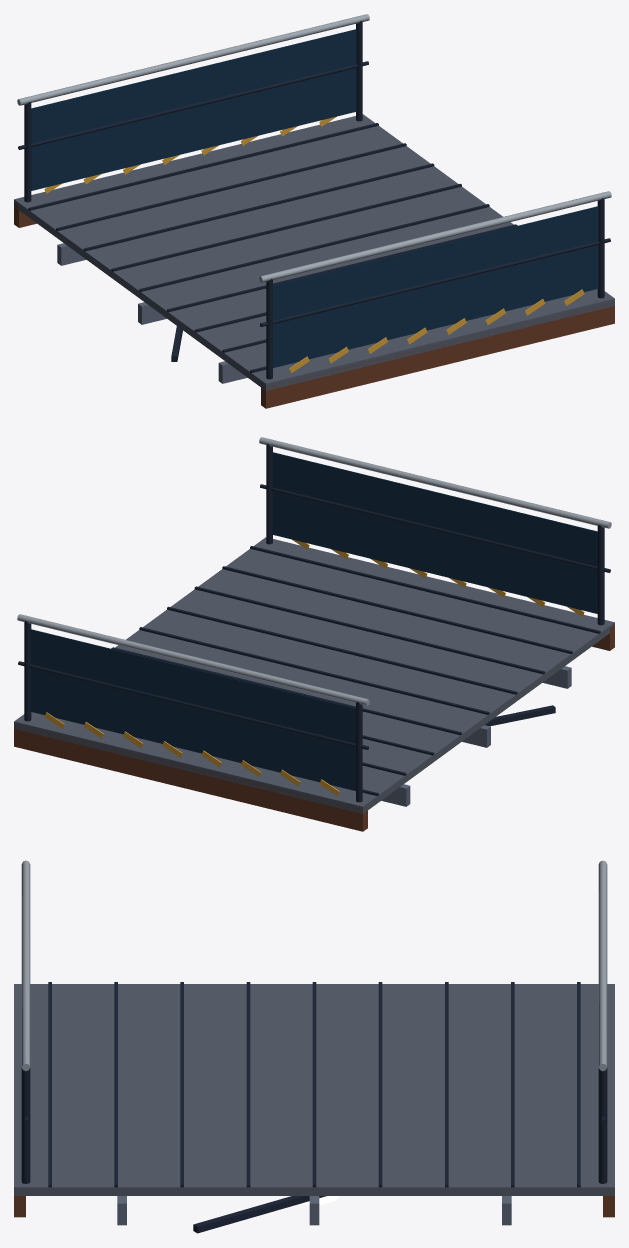
The model's file is switchyard_catwalk.glb.
3 renders of one model, top to bottom at view 1: azimuth 30°, elevation 25°; view 2: azimuth 150°, elevation 25°; view 3: azimuth 270°, elevation 25°, orthographic. The views are drawn at different scales.
Parts seen in each view (by area): view 1: cat_grate, cat_mesh-1, cat_mesh1, cat_edge1, cat_handrail-1, cat_handrail1, cat_grate_bar2, cat_grate_bar0, cat_grate_bar1, cat_grate_bar3, cat_grate_bar4, cat_midrail-1 (+8 smaller); view 2: cat_grate, cat_mesh1, cat_mesh-1, cat_edge-1, cat_handrail1, cat_handrail-1, cat_grate_bar6, cat_grate_bar5, cat_grate_bar7, cat_grate_bar8, cat_grate_bar4, cat_midrail1 (+9 smaller); view 3: cat_grate, cat_handrail-1, cat_handrail1, cat_truss_diag3, cat_post-11.9, cat_post11.9, cat_grate_bar3, cat_grate_bar4, cat_grate_bar5, cat_grate_bar0, cat_grate_bar1, cat_grate_bar2 (+3 smaller).
Part boxes in pixels (x1,y1,x2,y2): cat_grate: [14, 114, 614, 390]; cat_mesh-1: [31, 29, 356, 190]; cat_mesh1: [273, 206, 598, 367]; cat_edge1: [261, 301, 614, 408]; cat_handrail-1: [17, 14, 369, 105]; cat_handrail1: [259, 191, 611, 282]; cat_grate_bar2: [83, 163, 434, 251]; cat_grate_bar0: [28, 123, 378, 210]; cat_grate_bar1: [56, 143, 406, 230]; cat_grate_bar3: [111, 183, 461, 271]; cat_grate_bar4: [139, 204, 489, 291]; cat_midrail-1: [18, 61, 368, 149]; cat_grate: [14, 537, 614, 813]; cat_mesh1: [272, 452, 597, 613]; cat_mesh-1: [30, 629, 355, 790]; cat_edge-1: [14, 724, 367, 831]; cat_handrail1: [259, 437, 611, 528]; cat_handrail-1: [17, 614, 369, 705]; cat_grate_bar6: [194, 586, 545, 674]; cat_grate_bar5: [167, 606, 517, 694]; cat_grate_bar7: [222, 566, 572, 653]; cat_grate_bar8: [250, 546, 600, 633]; cat_grate_bar4: [139, 627, 489, 714]; cat_midrail1: [260, 484, 610, 572]; cat_grate: [14, 984, 614, 1195]; cat_handrail-1: [598, 860, 607, 1070]; cat_handrail1: [21, 860, 30, 1070]; cat_truss_diag3: [193, 1196, 326, 1233]; cat_post-11.9: [598, 1068, 607, 1183]; cat_post11.9: [21, 1068, 30, 1183]; cat_grate_bar3: [378, 982, 382, 1187]; cat_grate_bar4: [312, 982, 316, 1187]; cat_grate_bar5: [246, 982, 250, 1187]; cat_grate_bar0: [577, 982, 580, 1187]; cat_grate_bar1: [511, 982, 514, 1187]; cat_grate_bar2: [445, 982, 448, 1187].
Bounding box in the file's own units: 4.4 × 2.13 × 5.
